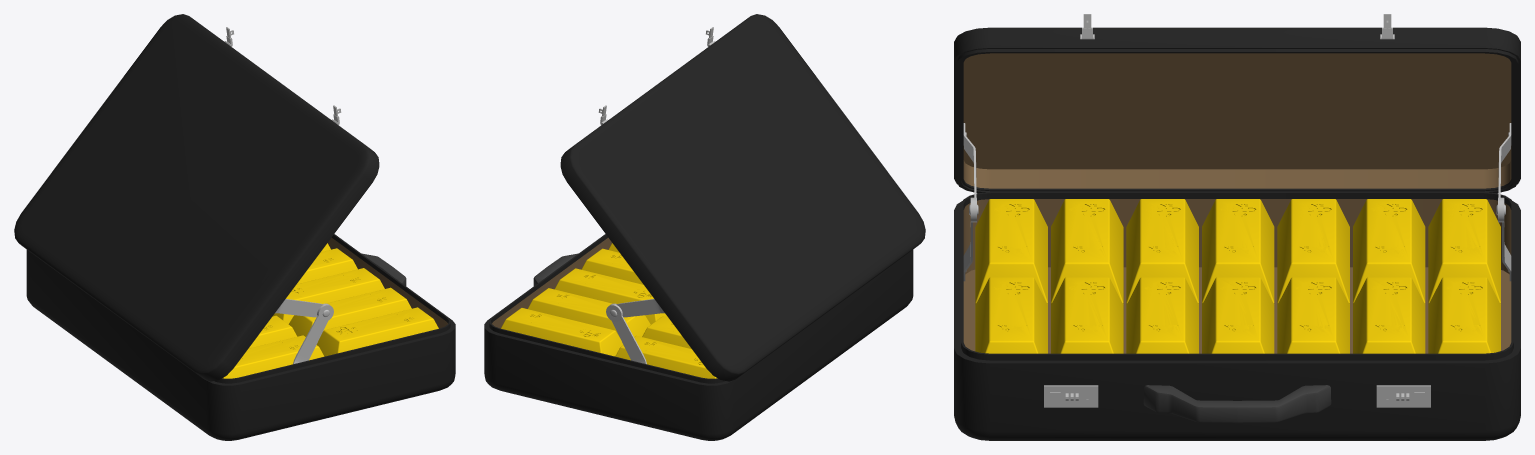
The model's file is BriefCaseOfGold.fbx.
3 views of the same model, side by side, from view 1: azimuth 30°, elevation 25°; view 2: azimuth 150°, elevation 25°; view 3: azimuth 270°, elevation 25° (orthographic). The views are drawn at different scales.
Parts seen in each view (by area): view 1: Case.002; view 2: Case.002; view 3: Case.002.
Boxes of the visible parts, box(x1,y1,x2,y2) form: Case.002: box(14, 14, 455, 440); Case.002: box(484, 14, 925, 440); Case.002: box(954, 14, 1520, 440).
Size of the model in its own units: 1160 by 1039 by 1420.
